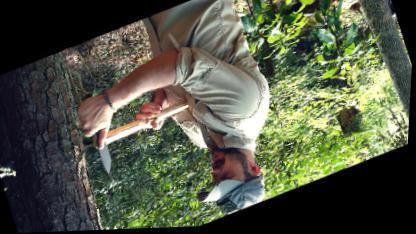knife: (70, 96, 128, 182)
